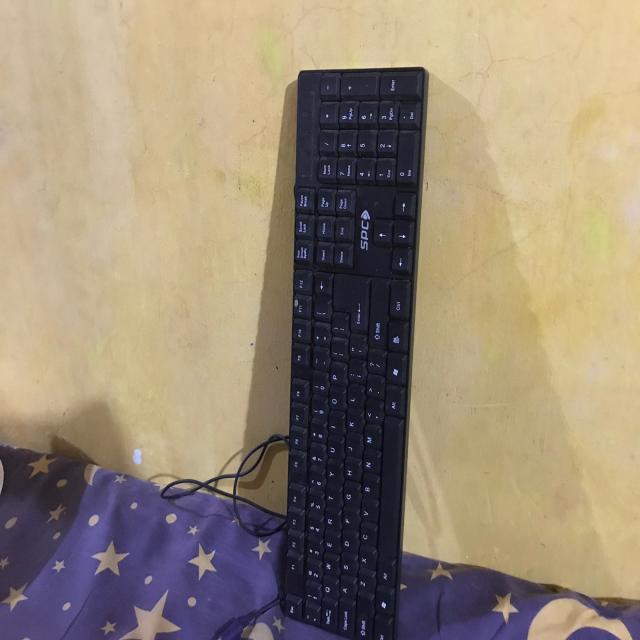-mouse-: (284, 67, 428, 640)
